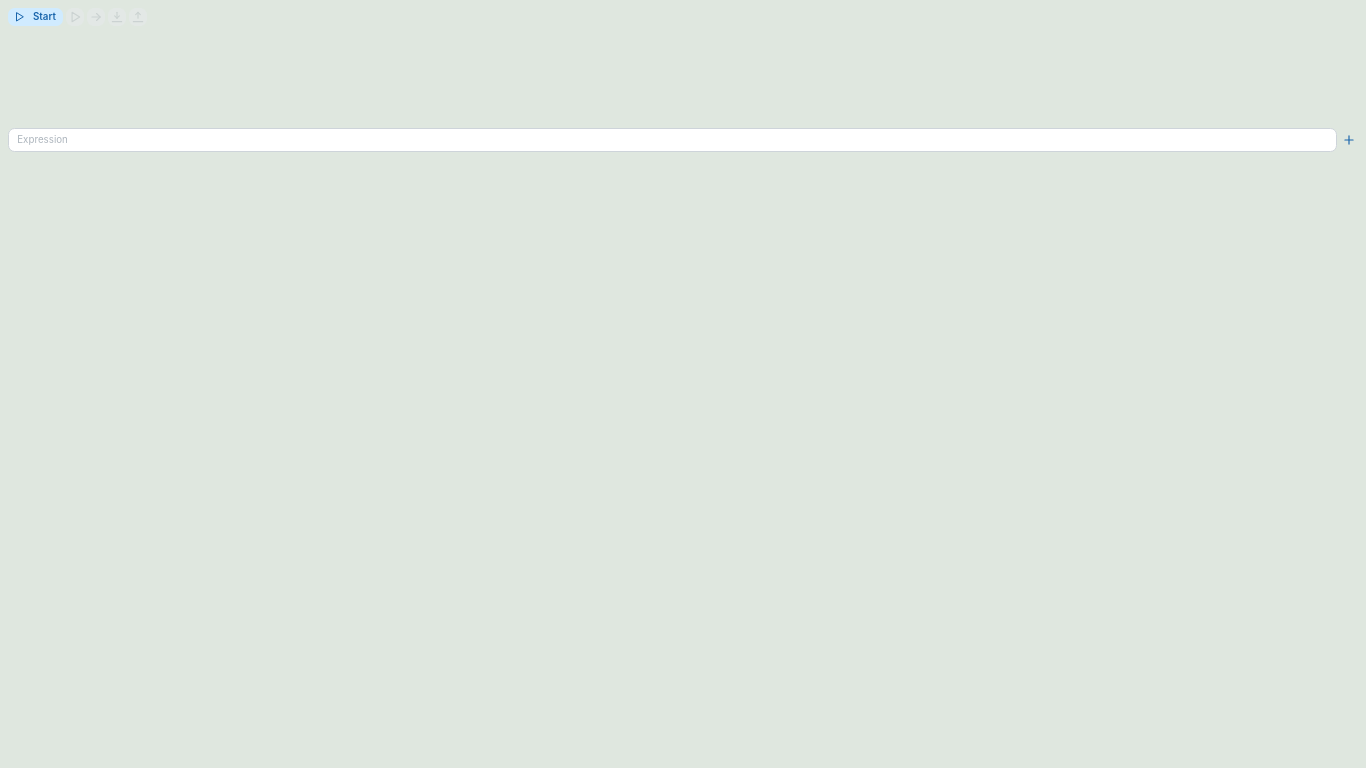
Test: DebugPanel › reports a launch that failed rather than looking like it worked
Click the button with test id "debug-start" at (35, 17), box [8, 8, 63, 26]
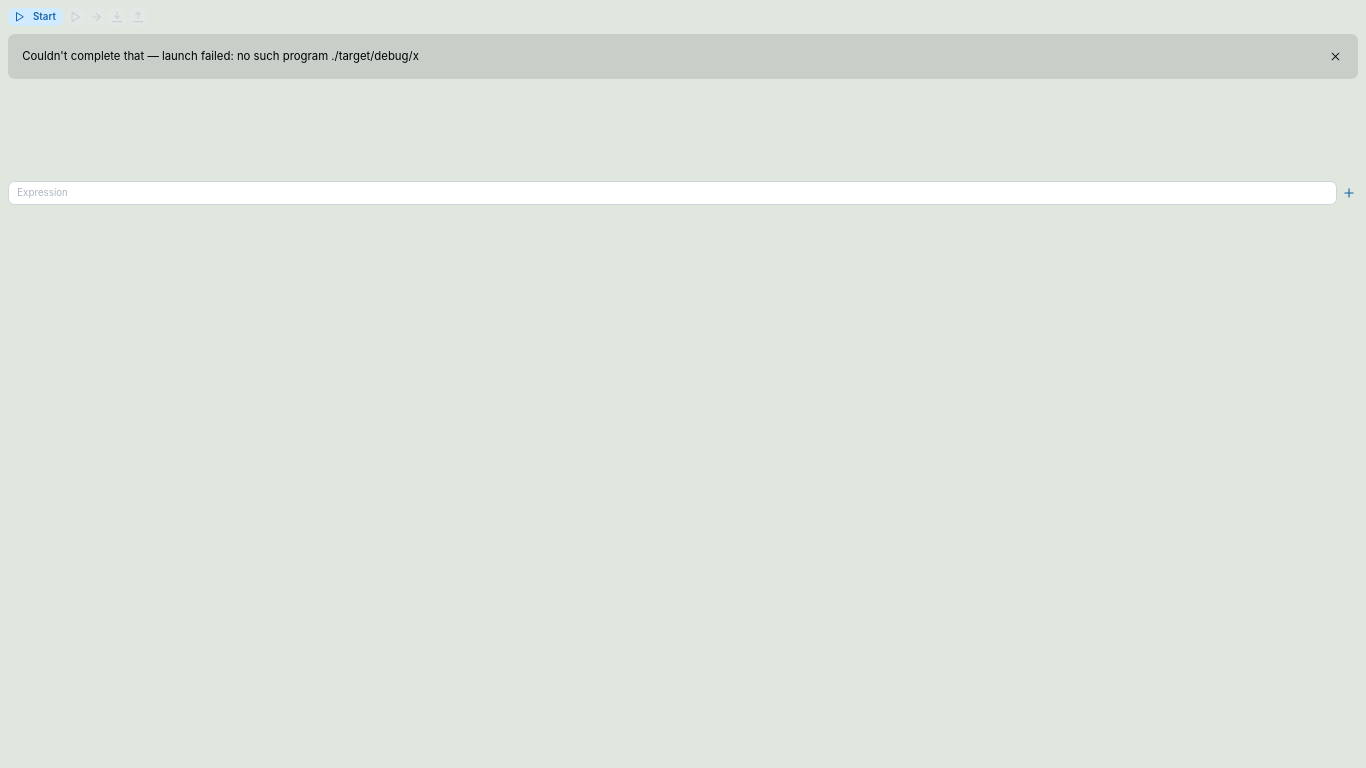
Now the text "no such program" is shown, box [22, 49, 419, 63]
